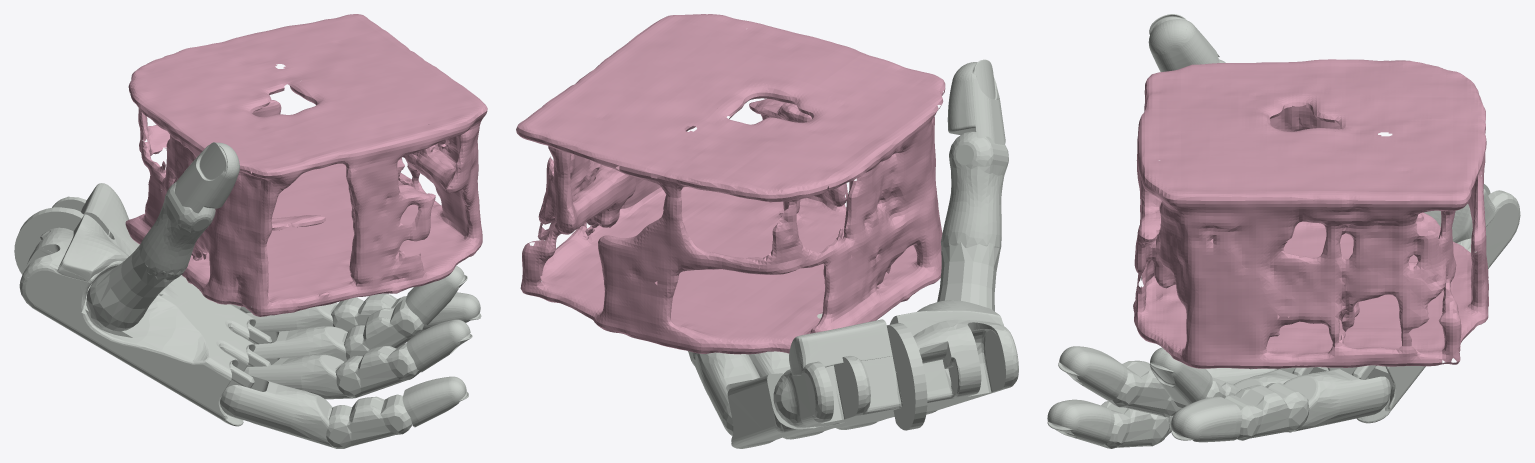
3 views of the same model, side by side, from view 1: azimuth 30°, elevation 25°; view 2: azimuth 150°, elevation 25°; view 3: azimuth 270°, elevation 25° (orthographic). The views are drawn at different scales.
Parts seen in each view (by area): view 1: world, hand_isaac_q; view 2: world, hand_isaac_q; view 3: world, hand_isaac_q.
Part boxes in pixels (bbox=[...]): world: bbox=[125, 14, 487, 316]; hand_isaac_q: bbox=[14, 142, 481, 448]; world: bbox=[516, 14, 945, 354]; hand_isaac_q: bbox=[688, 59, 1018, 448]; world: bbox=[1133, 59, 1488, 368]; hand_isaac_q: bbox=[1047, 14, 1520, 448].
Size of the model in its own units: 0.1921 by 0.149 by 0.1747.
